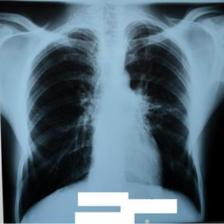tuberculosis: (14, 19, 204, 224)
